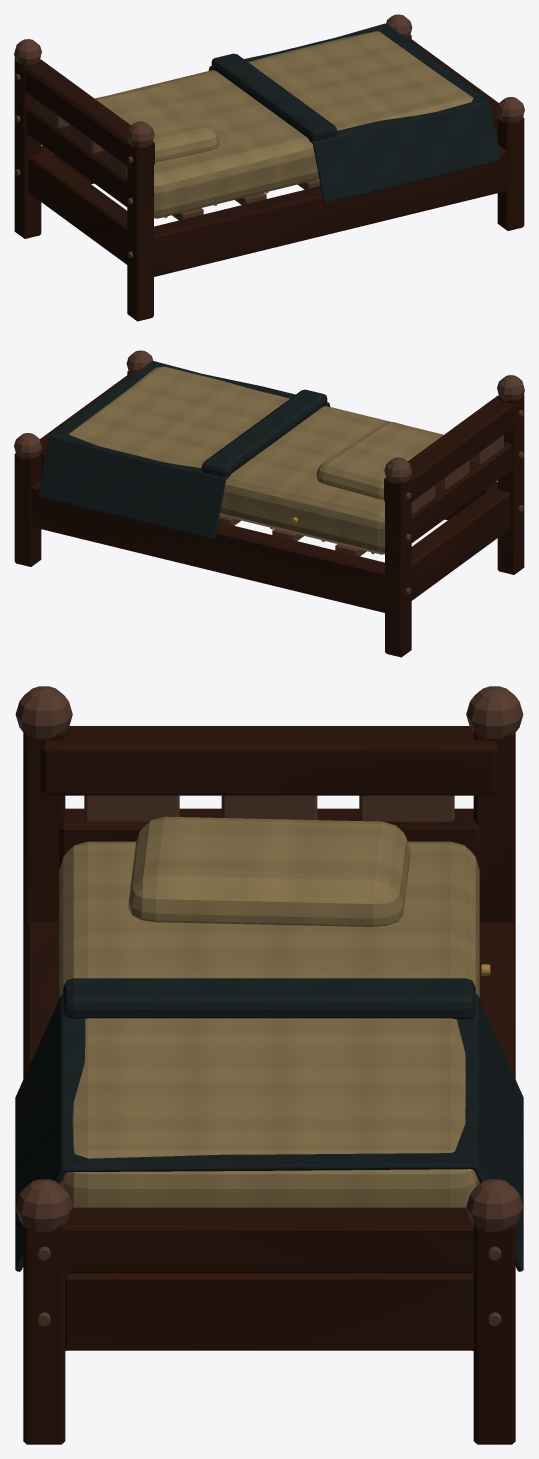
Rendered from smithy_bed.glb.
3 renders of one model, top to bottom at view 1: azimuth 30°, elevation 25°; view 2: azimuth 150°, elevation 25°; view 3: azimuth 270°, elevation 25°, orthographic. The views are drawn at different scales.
Visible parts, largest first — view 1: BedMesh; view 2: BedMesh; view 3: BedMesh.
Boxes of the visible parts, x1,y1,x2,y2 form: BedMesh: [14, 14, 524, 321]; BedMesh: [14, 350, 524, 657]; BedMesh: [15, 686, 523, 1444].
Size of the model in its own units: 2.38 by 1.12 by 1.33.
5 materials, 3 textured.
